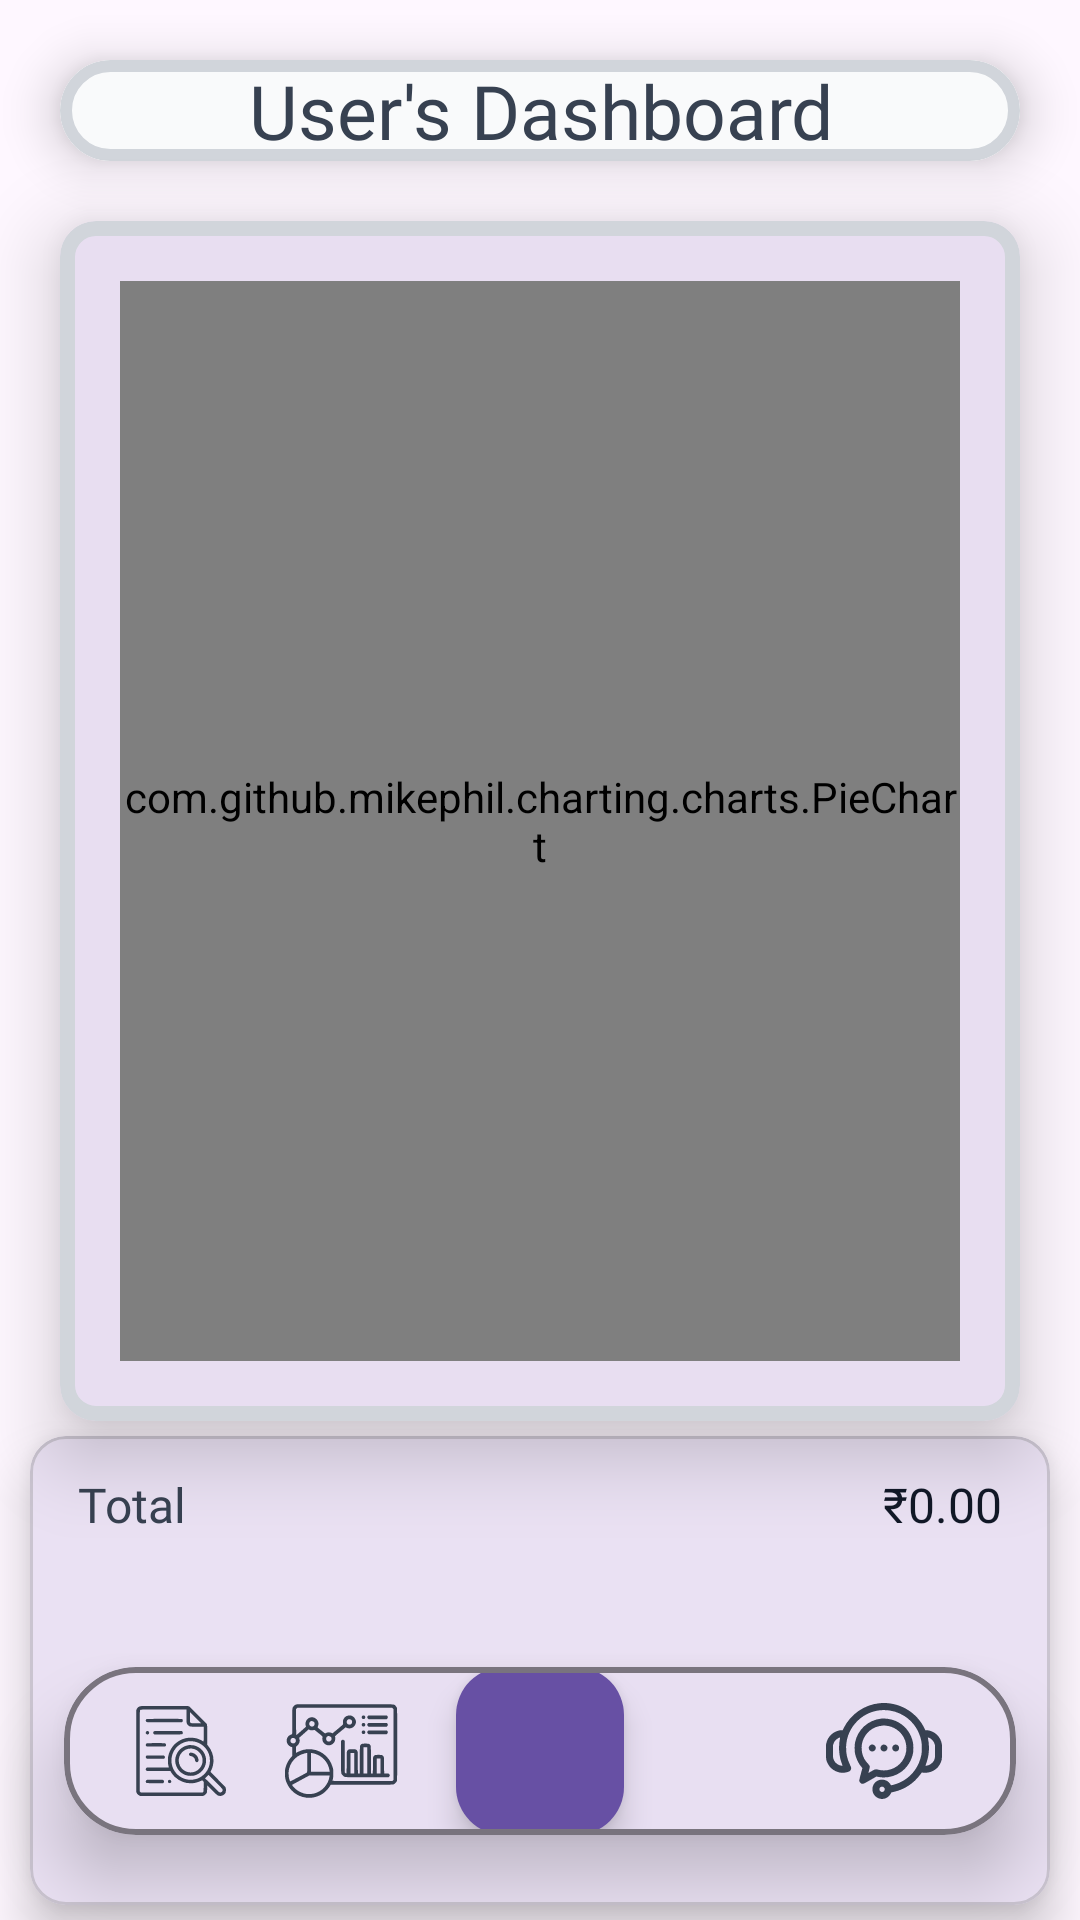

Named icons in this screenshot (1080px×1920px) and their centers, point (x, y):
customer service: point (884, 1751)
dashboard: point (341, 1751)
file: point (181, 1751)
